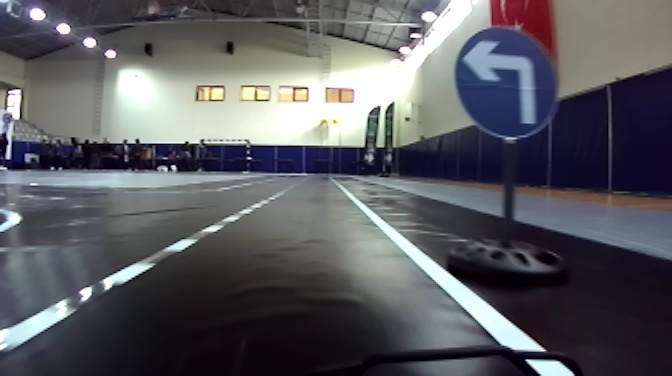sola_donus: (452, 20, 566, 141)
